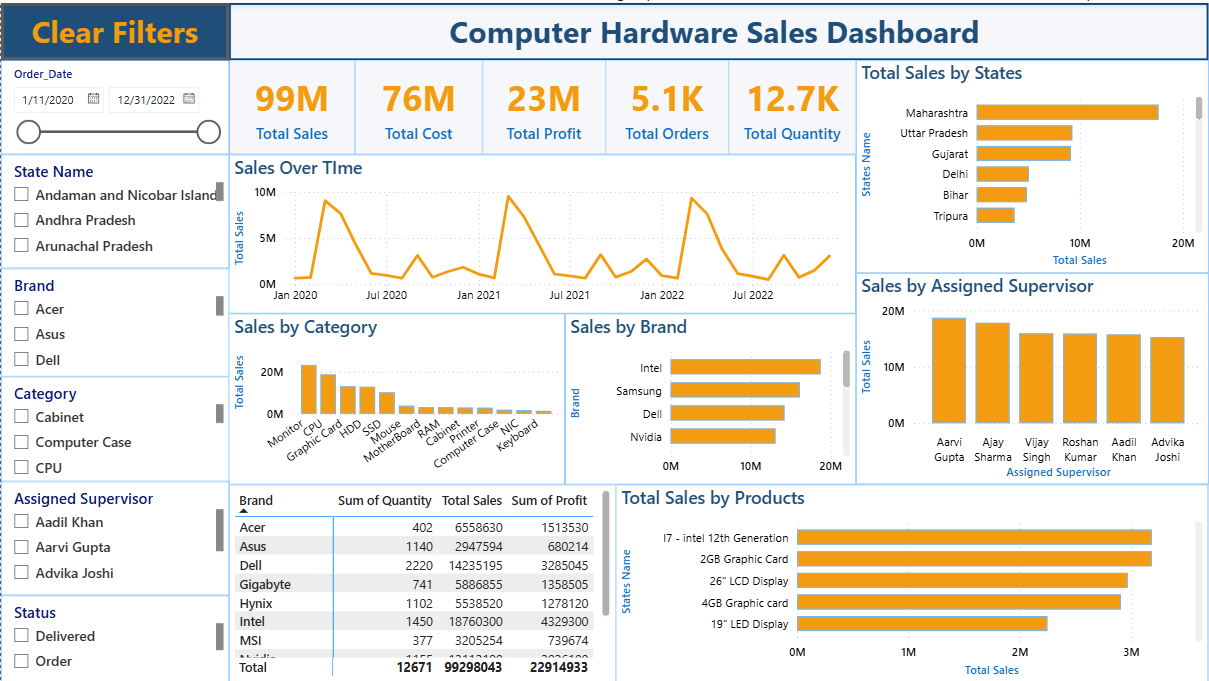

The page's visual inventory and layout, read from the dashboard file:
{"tool":"powerbi","page":{"name":"Page 1","canvas":[1280,720],"ordinal":0},"visuals":[{"type":"textbox","box":[241.8,0,1038.7,60.4],"z":0},{"type":"card","fields":{"Values":["Sum(Online-eCommerce.Total_Sales)"]},"box":[241.8,60.4,133.6,100.2],"z":1000},{"type":"card","fields":{"Values":["Sum(Online-eCommerce.Total_Cost)"]},"box":[375.4,60.4,135.2,100.2],"z":2000},{"type":"card","fields":{"Values":["Sum(Online-eCommerce.Profit)"]},"box":[510.6,60.4,130.4,100.2],"z":3000},{"type":"card","fields":{"Values":["Online-eCommerce.Total_Orders"]},"box":[641,60.4,130.4,100.2],"z":4000},{"type":"card","fields":{"Values":["Sum(Online-eCommerce.Quantity)"]},"box":[771.4,60.4,135.2,100.2],"z":5000},{"type":"shape","box":[0,0,241.8,720.5],"z":6000},{"type":"lineChart","title":"Sales Over TIme","fields":{"Y":["Sum(Online-eCommerce.Total_Sales)"],"Category":["Online-eCommerce.Order_Date.Variation.Date Hierarchy.Year","Online-eCommerce.Order_Date.Variation.Date Hierarchy.Quarter","Online-eCommerce.Order_Date.Variation.Date Hierarchy.Month"]},"box":[241.8,160.7,664.9,168.6],"z":7000},{"type":"columnChart","title":"Sales by Category","fields":{"Category":["Online-eCommerce.Category"],"Y":["Sum(Online-eCommerce.Total_Sales)"]},"box":[241.8,329.3,356.3,181.3],"z":8000},{"type":"clusteredBarChart","title":"Sales by Brand","fields":{"Category":["Online-eCommerce.Brand"],"Y":["Sum(Online-eCommerce.Total_Sales)"]},"box":[598.1,329.3,308.6,181.3],"z":9000},{"type":"barChart","title":"Total Sales by Products","fields":{"Y":["Sum(Online-eCommerce.Total_Sales)"],"Category":["Online-eCommerce.Product"]},"box":[652.2,510.6,628.3,210],"z":10000},{"type":"columnChart","title":"Sales by Assigned Supervisor","fields":{"Category":["Online-eCommerce.Assigned Supervisor"],"Y":["Sum(Online-eCommerce.Total_Sales)"]},"box":[906.6,286.3,373.8,224.3],"z":11000},{"type":"barChart","title":"Total Sales by States","fields":{"Y":["Sum(Online-eCommerce.Total_Sales)"],"Category":["Online-eCommerce.State_Name"]},"box":[906.6,60.4,373.8,225.9],"z":12000},{"type":"pivotTable","fields":{"Values":["Sum(Online-eCommerce.Quantity)","Sum(Online-eCommerce.Total_Sales)","Sum(Online-eCommerce.Profit)"],"Rows":["Online-eCommerce.Brand"]},"box":[241.8,510.6,410.4,210],"z":13000},{"type":"slicer","fields":{"Values":["Online-eCommerce.Order_Date"]},"box":[0,60.4,241.8,100.2],"z":14000},{"type":"slicer","fields":{"Values":["Online-eCommerce.State_Name"]},"box":[0,160.7,241.8,120.9],"z":15000},{"type":"slicer","fields":{"Values":["Online-eCommerce.Brand"]},"box":[0,281.5,241.8,114.5],"z":16000},{"type":"slicer","fields":{"Values":["Online-eCommerce.Category"]},"box":[0,396.1,241.8,111.3],"z":17000},{"type":"slicer","fields":{"Values":["Online-eCommerce.Assigned Supervisor"]},"box":[0,507.4,241.8,120.9],"z":18000},{"type":"textbox","box":[0,0,241.8,60.4],"z":19000},{"type":"slicer","fields":{"Values":["Online-eCommerce.Status"]},"box":[0,628.3,241.8,92.3],"z":20000},{"type":"actionButton","box":[0,0,241.8,60.4],"z":20001}]}

Visuals, with their boxes in screenshot pixels (x1, y1, x2, y2), scaled from the page's 1280x720 canvas onto the 1209x681 screenshot:
textbox: bbox=[228, 0, 1208, 57]
card - Sum(Online-eCommerce.Total_Sales): bbox=[228, 57, 355, 152]
card - Sum(Online-eCommerce.Total_Cost): bbox=[355, 57, 482, 152]
card - Sum(Online-eCommerce.Profit): bbox=[482, 57, 605, 152]
card - Online-eCommerce.Total_Orders: bbox=[605, 57, 729, 152]
card - Sum(Online-eCommerce.Quantity): bbox=[729, 57, 856, 152]
shape: bbox=[0, 0, 228, 680]
"Sales Over TIme" lineChart: bbox=[228, 152, 856, 311]
"Sales by Category" columnChart: bbox=[228, 311, 565, 483]
"Sales by Brand" clusteredBarChart: bbox=[565, 311, 856, 483]
"Total Sales by Products" barChart: bbox=[616, 483, 1208, 680]
"Sales by Assigned Supervisor" columnChart: bbox=[856, 271, 1208, 483]
"Total Sales by States" barChart: bbox=[856, 57, 1208, 271]
pivotTable - Sum(Online-eCommerce.Quantity) x Sum(Online-eCommerce.Total_Sales): bbox=[228, 483, 616, 680]
slicer - Online-eCommerce.Order_Date: bbox=[0, 57, 228, 152]
slicer - Online-eCommerce.State_Name: bbox=[0, 152, 228, 266]
slicer - Online-eCommerce.Brand: bbox=[0, 266, 228, 375]
slicer - Online-eCommerce.Category: bbox=[0, 375, 228, 480]
slicer - Online-eCommerce.Assigned Supervisor: bbox=[0, 480, 228, 594]
textbox: bbox=[0, 0, 228, 57]
slicer - Online-eCommerce.Status: bbox=[0, 594, 228, 680]
actionButton: bbox=[0, 0, 228, 57]
